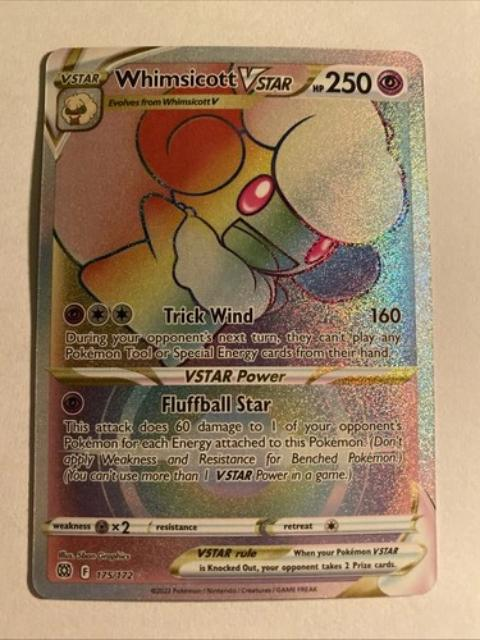Card: (26, 41, 445, 606)
Name: (106, 63, 302, 99)
